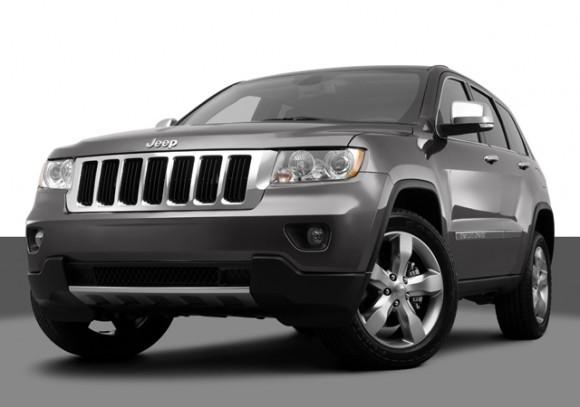jeep: (133, 129, 184, 157)
